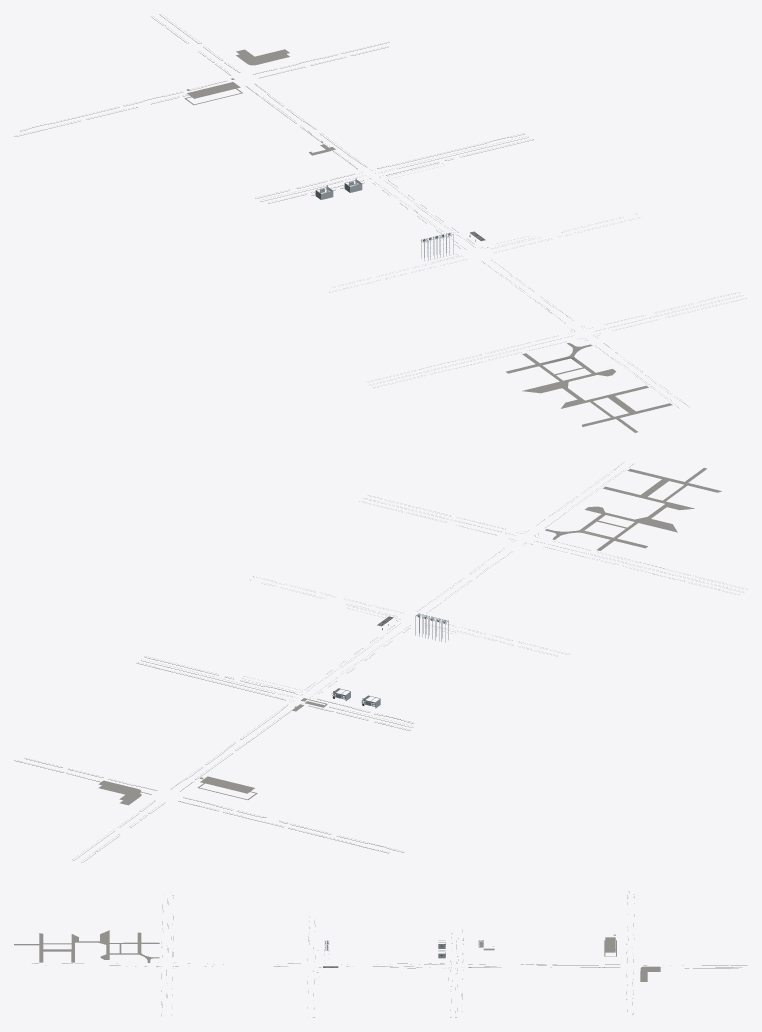
Rendered from NoLod_22.glb.
The picture shows the model from 3 angles, top to bottom: view 1: azimuth 30°, elevation 25°; view 2: azimuth 150°, elevation 25°; view 3: azimuth 270°, elevation 25°; orthographic projection. The views are drawn at different scales.
Parts seen in each view (by area): view 1: rtc; view 2: rtc; view 3: rtc.
Boxes of the visible parts, x1,y1,x2,y2 form: rtc: [14, 14, 746, 432]; rtc: [14, 462, 742, 862]; rtc: [14, 891, 747, 1017].
Size of the model in its own units: 1040 by 54.4 by 2546.
Materials: 4 (4 with a texture image).
